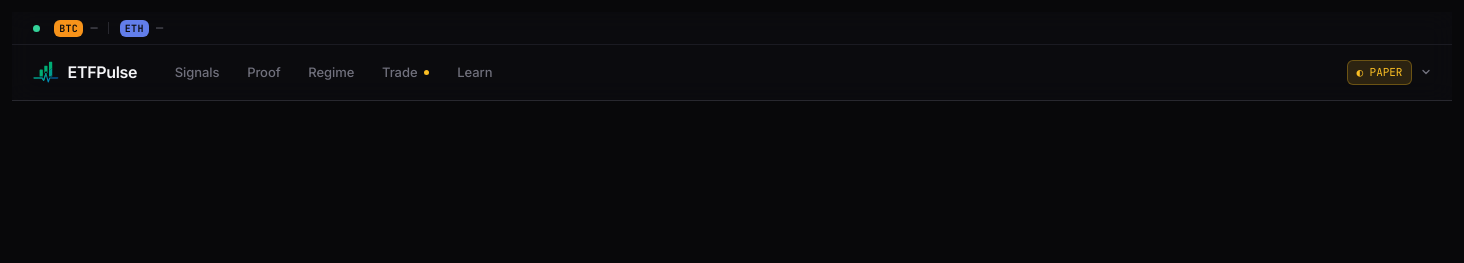
AccountChip › a Telegram-bound user with no wallet still gets the menu
Step 1. Click the button with aria-label "Account menu" → (1389, 72), box [1346,60,1431,85]
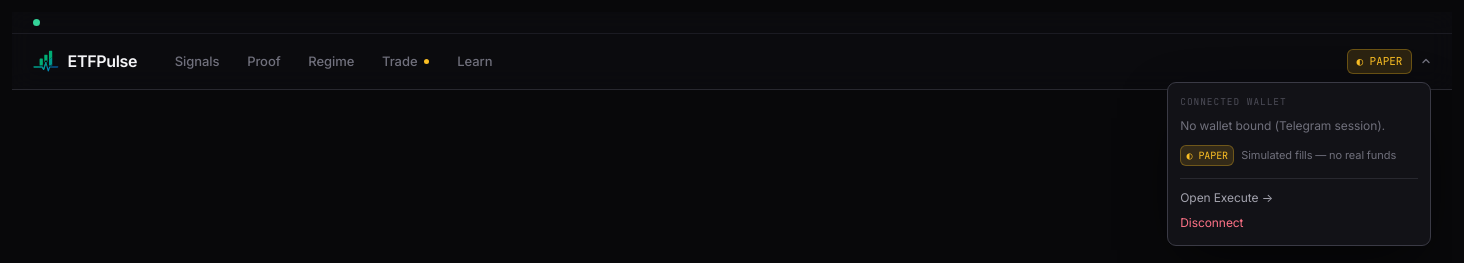
Check: the text "No wallet bound (Telegram session)." is shown, box [1180,116,1418,134]
Check: the button "Disconnect" is shown, box [1180,214,1418,232]
